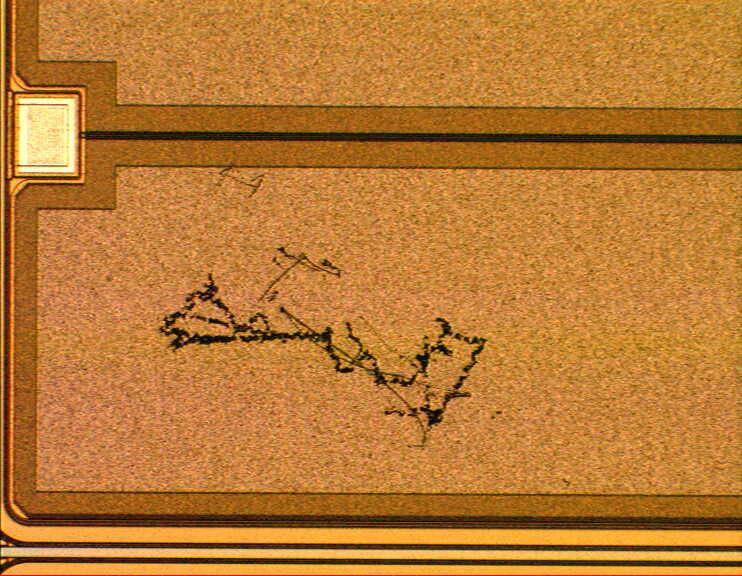SCRATCH: (158, 157, 493, 454)
